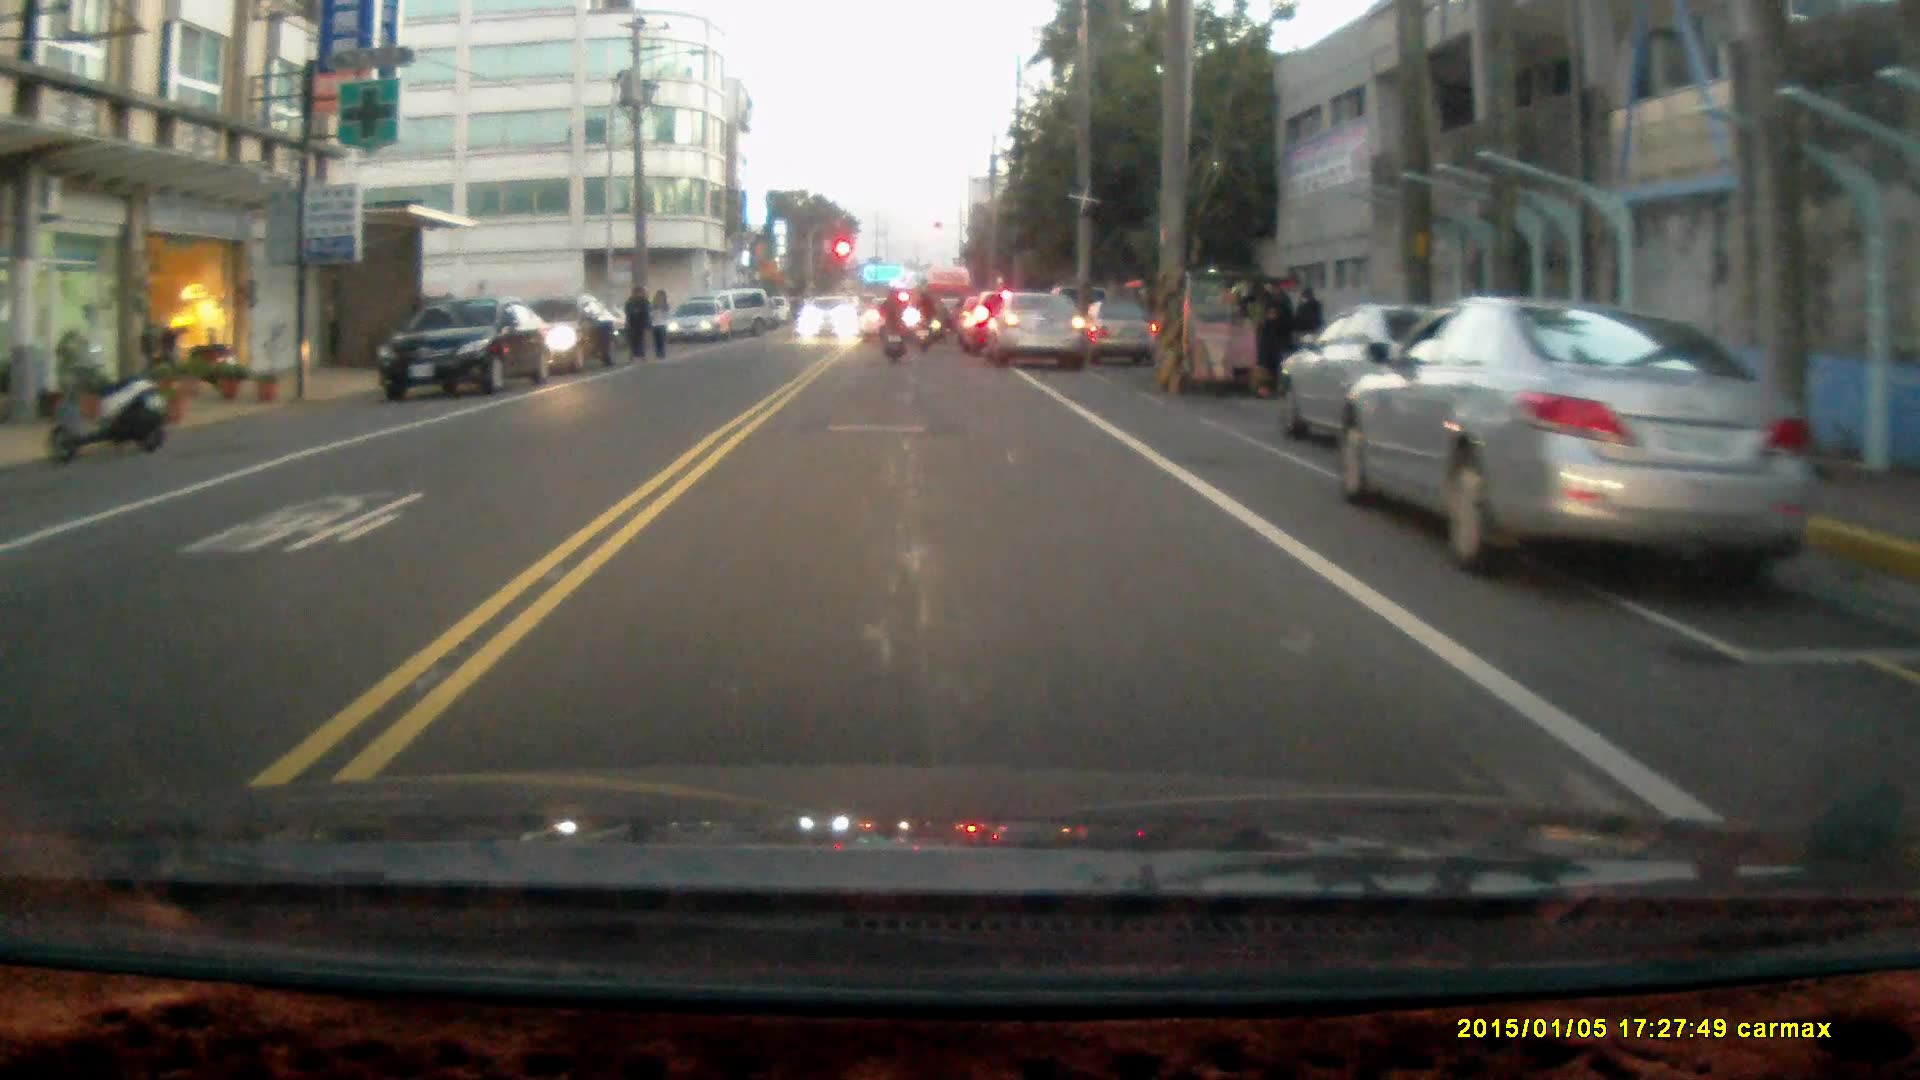pedestrian: (1289, 282, 1326, 376), (621, 281, 652, 364), (647, 285, 670, 364)
rider: (875, 285, 908, 359), (907, 289, 936, 354)
vehicle: (1334, 294, 1818, 581), (1137, 266, 1291, 392), (380, 293, 558, 399), (989, 284, 1094, 365), (668, 298, 733, 345), (798, 294, 859, 343)
